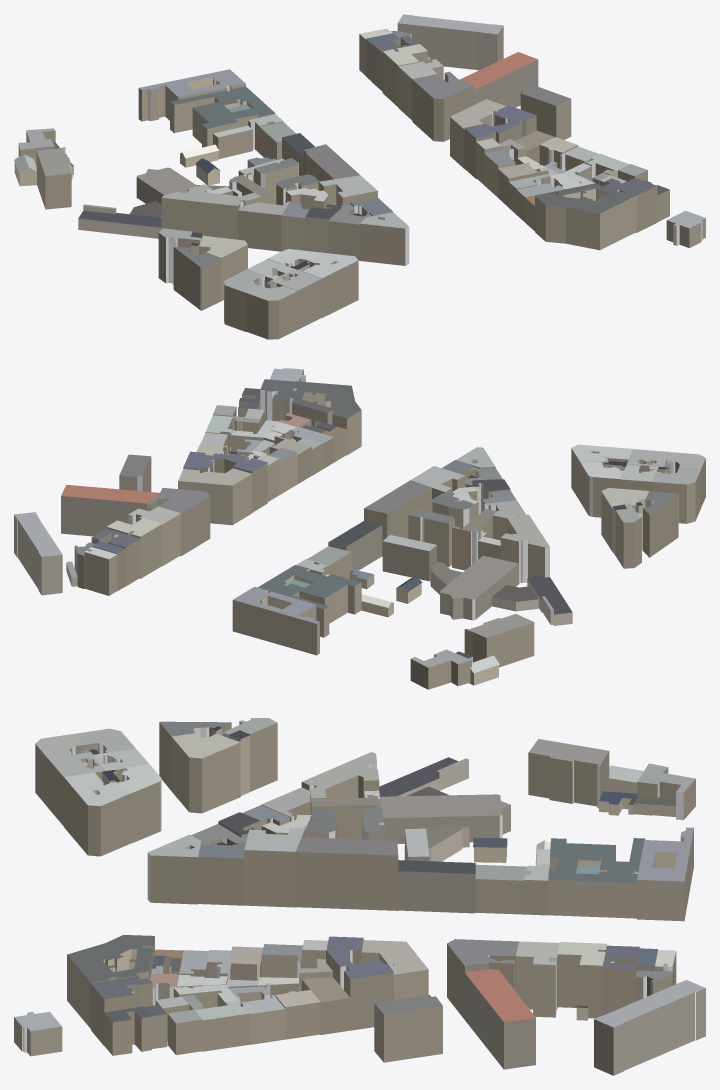
3 views of the same model, one above another, from view 1: azimuth 30°, elevation 25°; view 2: azimuth 150°, elevation 25°; view 3: azimuth 270°, elevation 25° (orthographic). The views are drawn at different scales.
Parts seen in each view (by area): view 1: tuile; view 2: tuile; view 3: tuile.
Part boxes in pixels (x1,y1,x2,y2): tuile: (14,14,705,339); tuile: (14,368,705,689); tuile: (14,718,705,1075).
Bounding box in the file's own units: 274 × 28.46 × 264.
